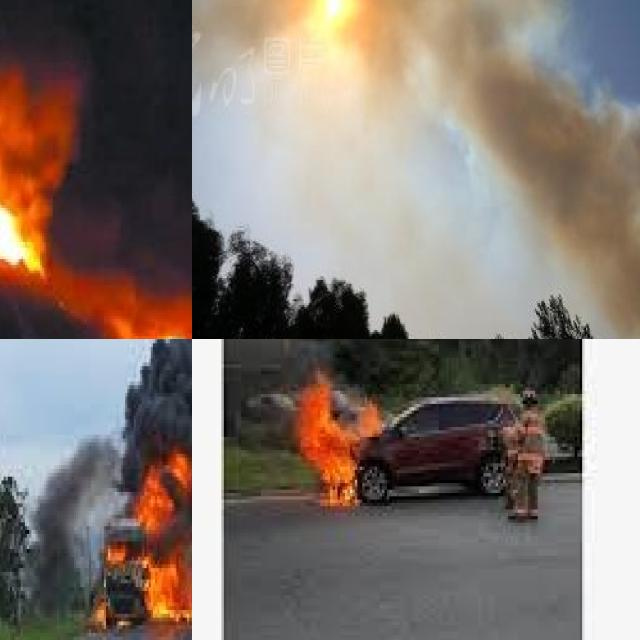fire: (82, 450, 192, 633), (286, 368, 394, 512), (0, 176, 52, 279), (132, 313, 192, 339)
smoke: (192, 0, 640, 339), (0, 6, 82, 233), (27, 435, 110, 606), (59, 267, 192, 336), (224, 339, 323, 371)
